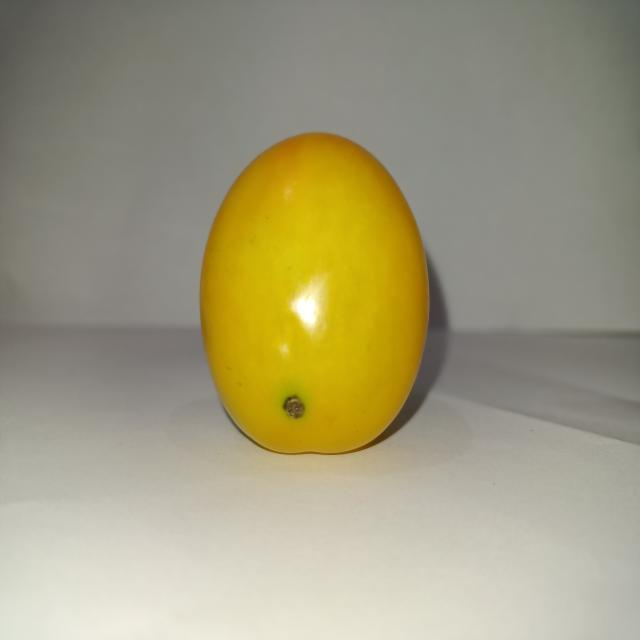Red: (197, 129, 431, 455)
